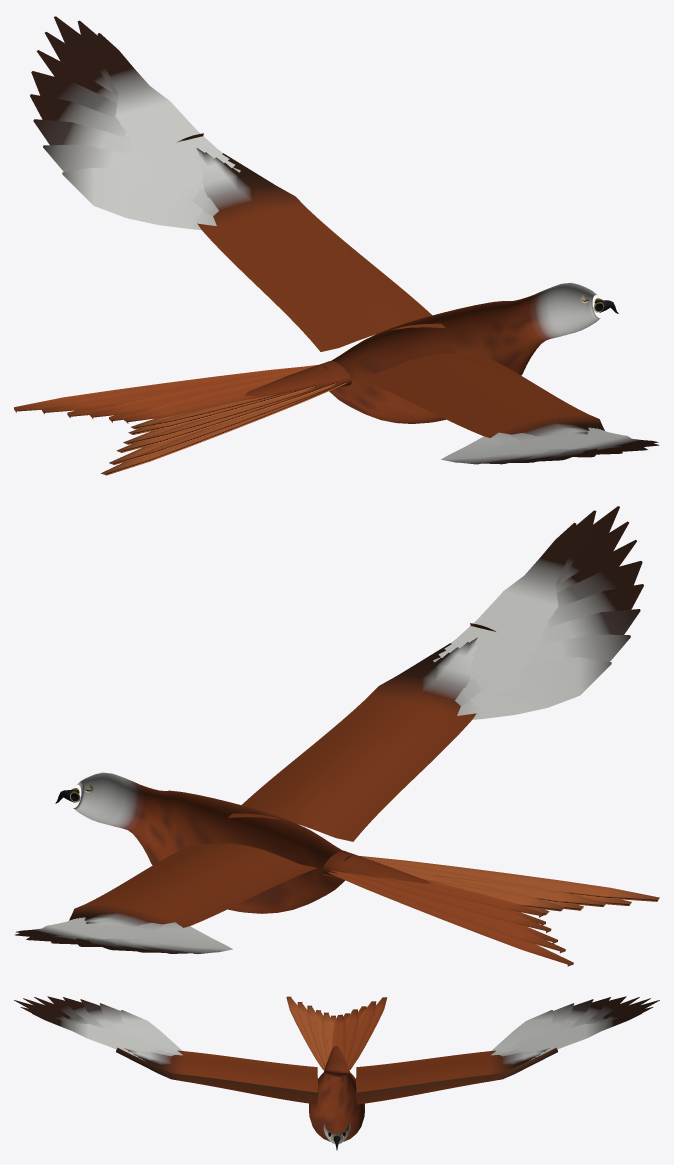
Rendered from SM_Bird_red_kite_flap1.glb.
3 renders of one model, top to bottom at view 1: azimuth 30°, elevation 25°; view 2: azimuth 150°, elevation 25°; view 3: azimuth 270°, elevation 25°, orthographic. The views are drawn at different scales.
Visible parts, largest first — view 1: SM_Bird_red_kite_flap1; view 2: SM_Bird_red_kite_flap1; view 3: SM_Bird_red_kite_flap1.
Boxes of the visible parts, x1,y1,x2,y2 form: SM_Bird_red_kite_flap1: [14, 16, 659, 475]; SM_Bird_red_kite_flap1: [15, 506, 659, 966]; SM_Bird_red_kite_flap1: [14, 996, 659, 1150].
Size of the model in its own units: 0.8225 by 0.2893 by 1.51.
